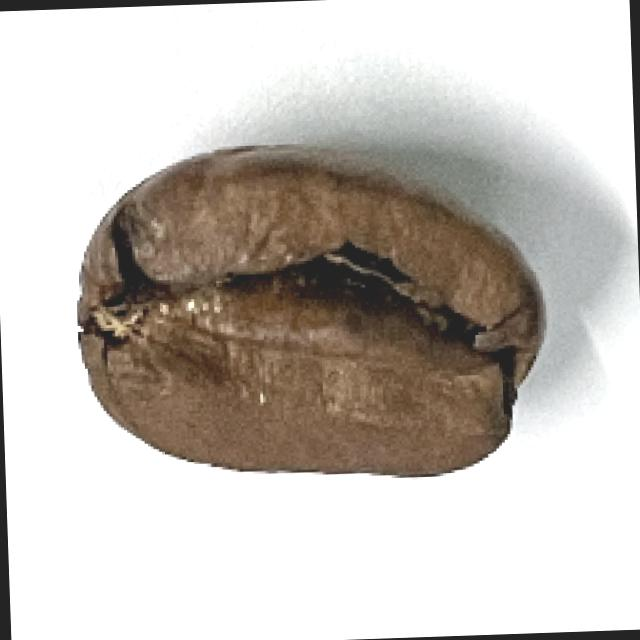bean: (67, 136, 551, 490)
